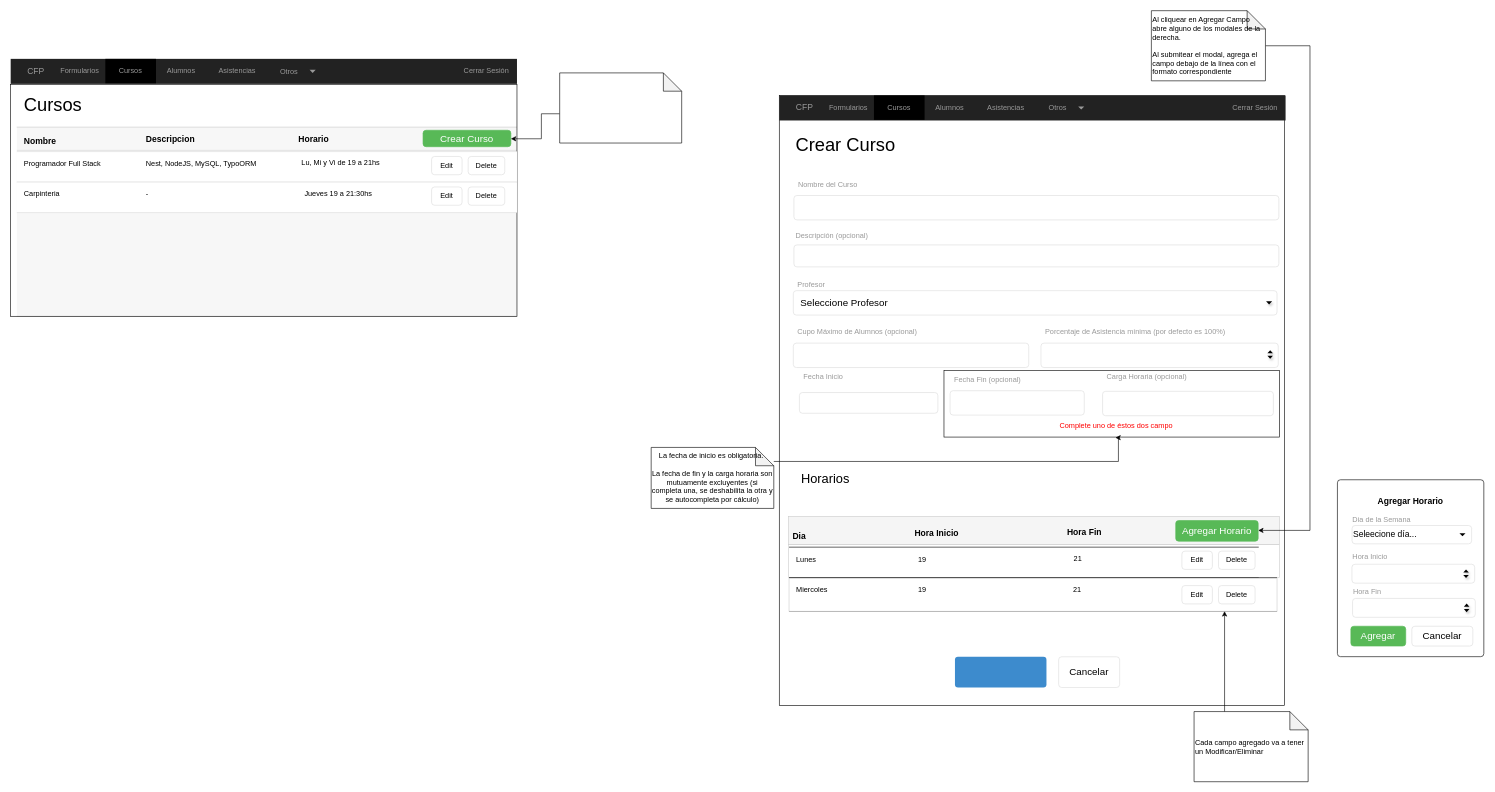
Some shapes in this 1495 by 792 pixel diagram are drawn without their labels. The centre of each missing label's shape, as x and y in pixels:
Al Crear Curso lleva a la ventana de la derecha: point (620, 107)
Guardar: point (1000, 671)
